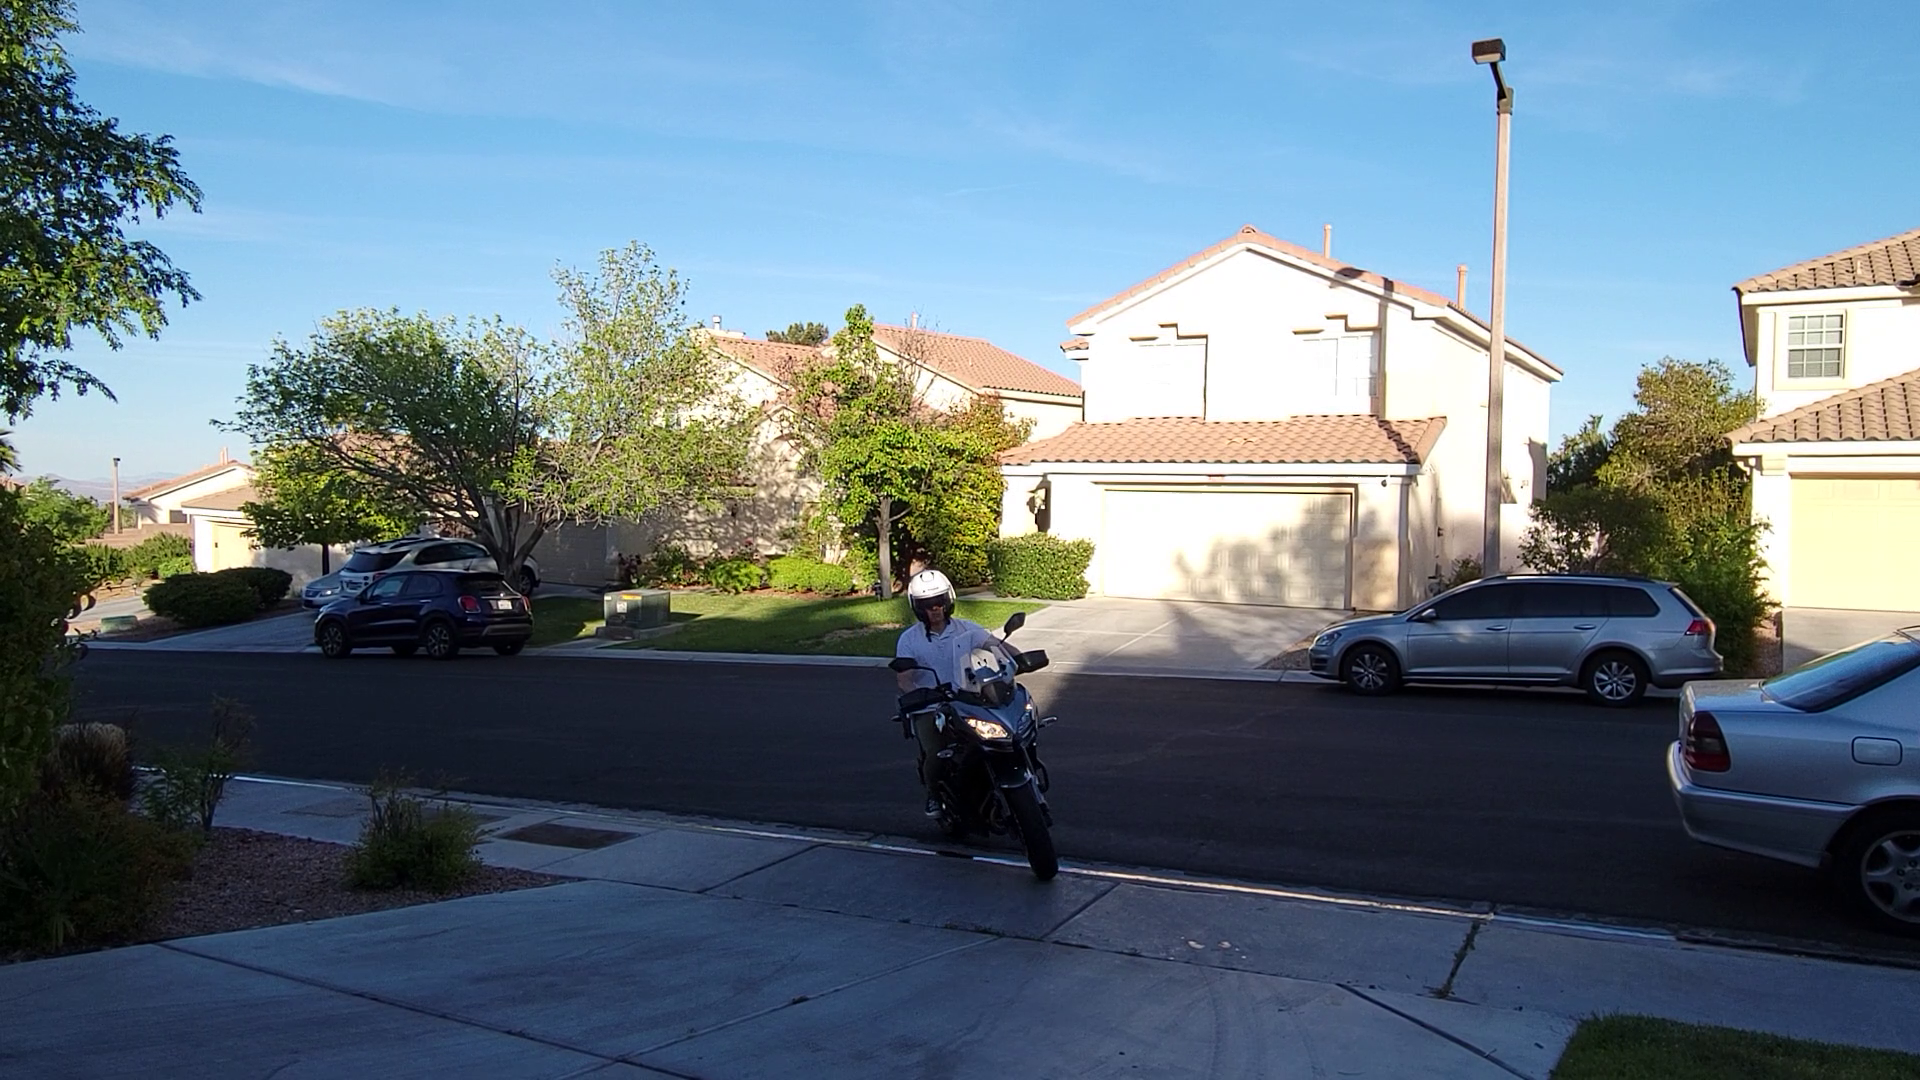my bike: (876, 564, 1062, 884)
